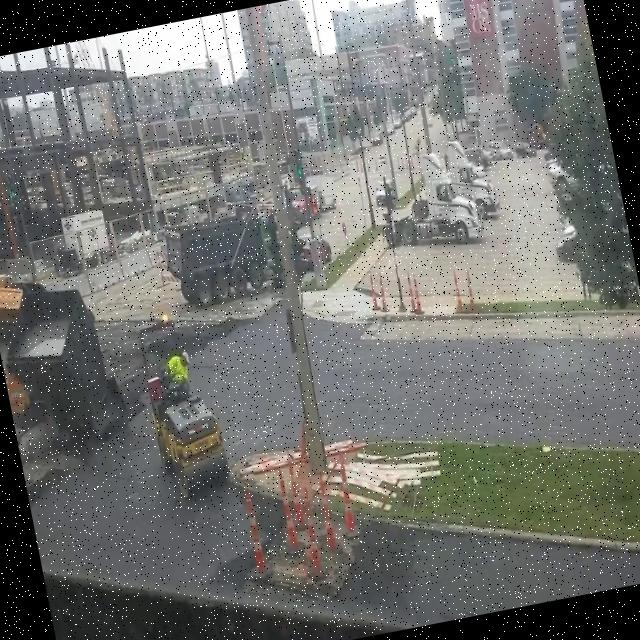Dump Truck: (156, 195, 290, 312)
Roller: (132, 308, 234, 506)
